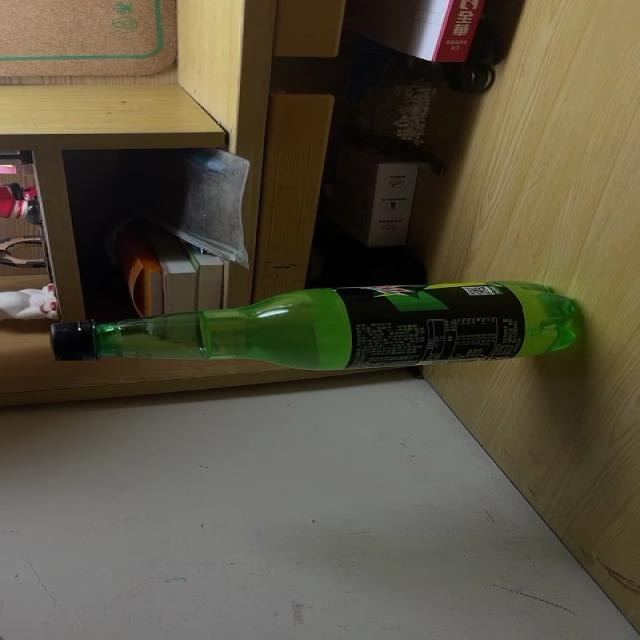Mountain-Dew: (52, 279, 580, 369)
